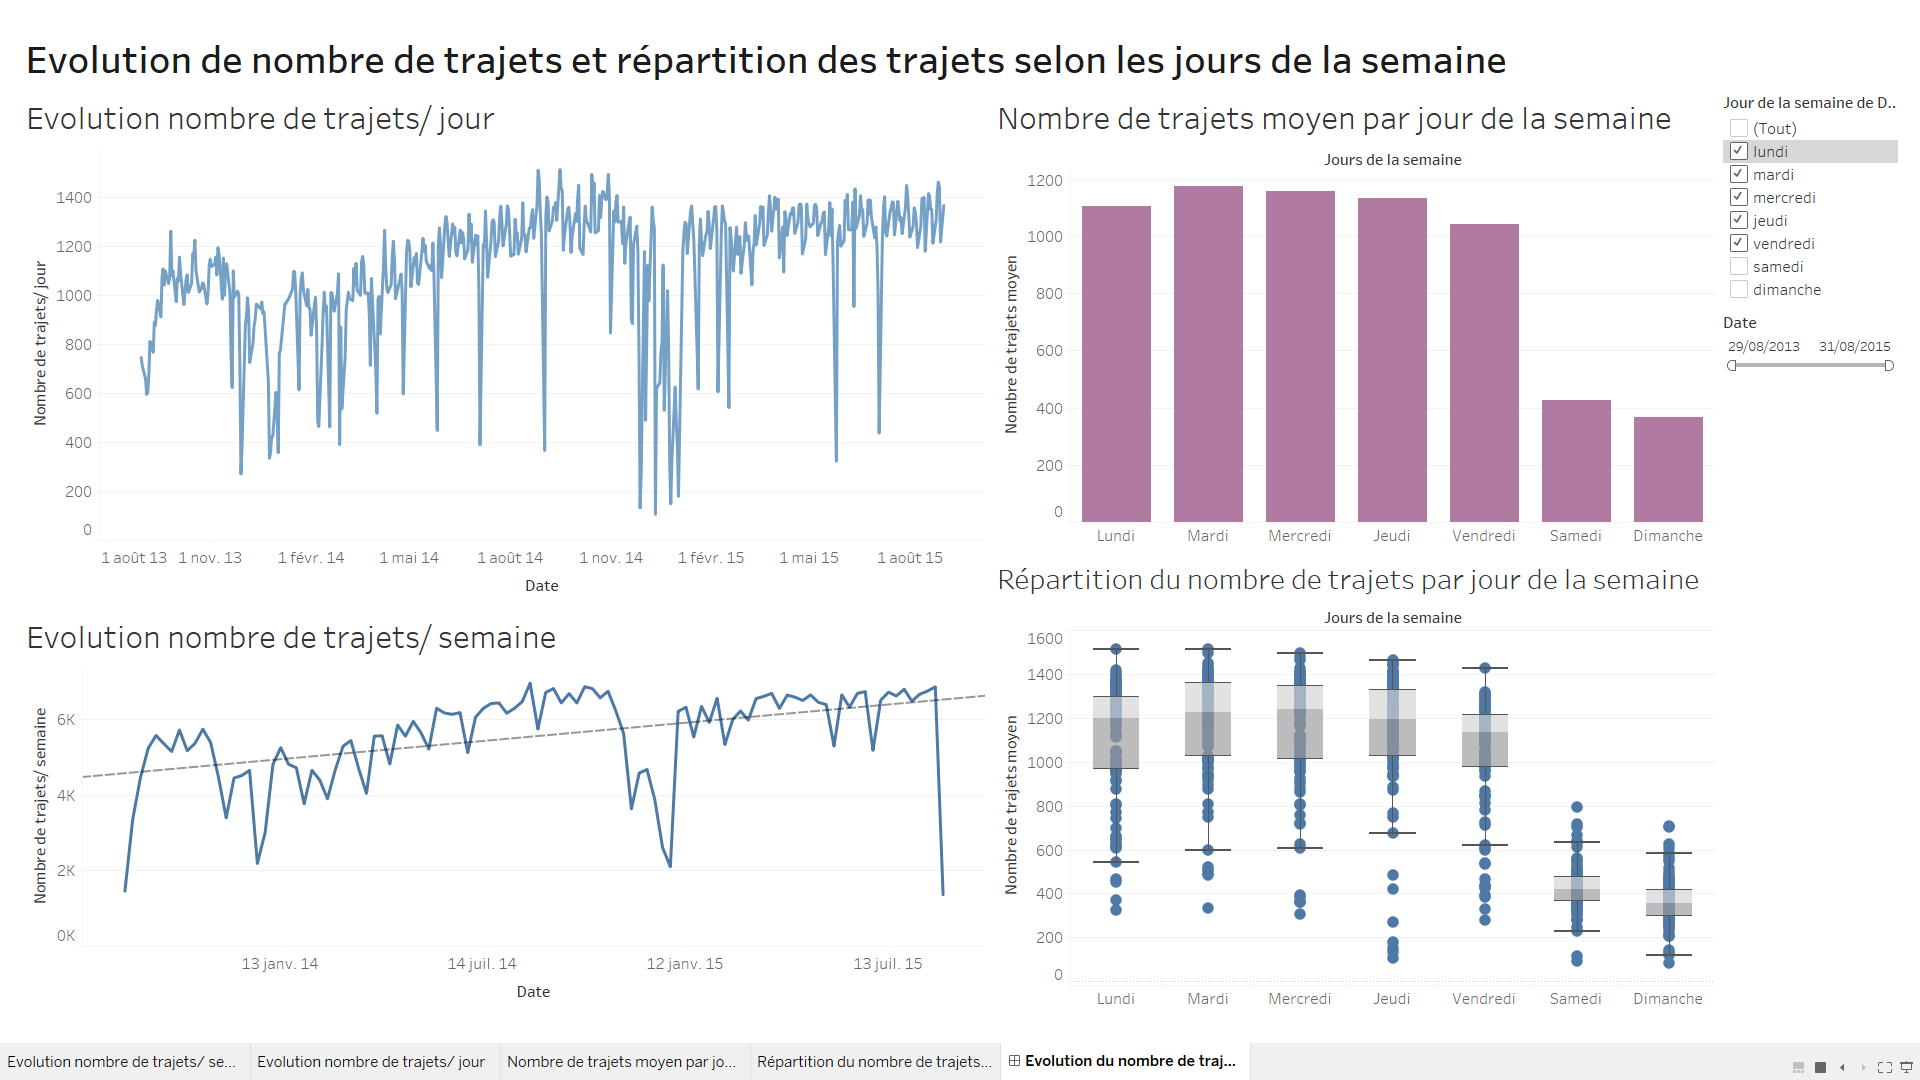

This screenshot's page, from the dashboard's own definition file:
{"tool":"tableau","page":{"name":"Evolution du nombre de trajets et répartition des trajets selon les jours de la semaine","canvas":[1900,1000],"ordinal":0},"visuals":[{"type":"title","box":[8,8,1884,59]},{"type":"worksheet","title":"Evolution nombre de trajets/ jour","mark":"Line","rows":["id"],"cols":["Calculation_1006836019017273345"],"box":[8,67,971,519]},{"type":"worksheet","title":"Nombre de trajets moyen par jour de la semaine ","mark":"Bar","rows":["Calculation_1006836019083304971"],"cols":["Calculation_1006836019085680653"],"box":[979,67,730,462.5]},{"type":"filter","title":"Evolution nombre de trajets/ semaine","param":"[federated.1pm1bb40dlc9df1fdqk2f18jr6kl].[wd:Calculation_1006836019017273345:ok]","box":[1709,67,183,220]},{"type":"filter","title":"Evolution nombre de trajets/ semaine","param":"[federated.1pm1bb40dlc9df1fdqk2f18jr6kl].[none:Calculation_1006836019017273345:q","box":[1709,287,183,73]},{"type":"worksheet","title":"Répartition du nombre de trajets par jour de la semaine","mark":"Circle","rows":["Calculation_1006836019083304971"],"cols":["Calculation_1006836019085680653"],"box":[979,529.5,730,462.5]},{"type":"worksheet","title":"Evolution nombre de trajets/ semaine","mark":"Automatic","rows":["id"],"cols":["Calculation_1006836019017273345"],"box":[8,586,971,406]}]}

Visuals, with their boxes on the page's 1900x1000 design canvas (x1, y1, x2, y2). These are canvas units, not pixel positions in the 1920x1080 screenshot, which may show the page scaled, cropped or inside an application window:
title: rect(8, 8, 1892, 67)
"Evolution nombre de trajets/ jour" worksheet (Line marks): rect(8, 67, 979, 586)
"Nombre de trajets moyen par jour de la semaine " worksheet (Bar marks): rect(979, 67, 1709, 530)
"Evolution nombre de trajets/ semaine" filter: rect(1709, 67, 1892, 287)
"Evolution nombre de trajets/ semaine" filter: rect(1709, 287, 1892, 360)
"Répartition du nombre de trajets par jour de la semaine" worksheet (Circle marks): rect(979, 530, 1709, 992)
"Evolution nombre de trajets/ semaine" worksheet: rect(8, 586, 979, 992)
